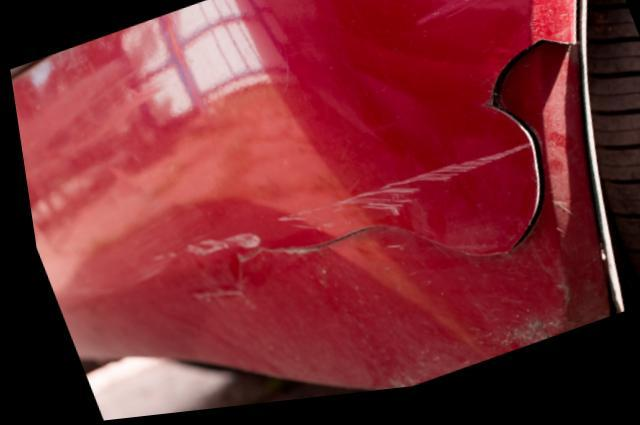crack: (228, 50, 570, 276)
scratch: (142, 150, 522, 257)
